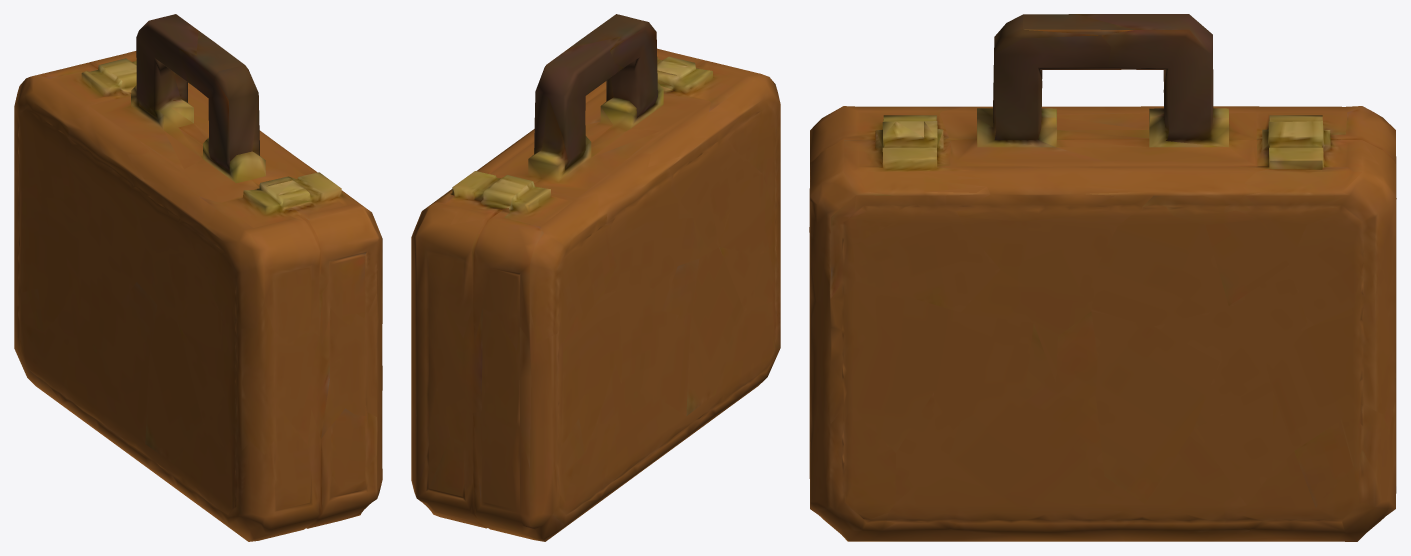
Rendered from work.glb.
The picture shows the model from 3 angles, left to right: view 1: azimuth 30°, elevation 25°; view 2: azimuth 150°, elevation 25°; view 3: azimuth 270°, elevation 25°; orthographic projection. The views are drawn at different scales.
Parts seen in each view (by area): view 1: tripo_node_12e7c16f-b682-44c6-85af-49949bc493f6; view 2: tripo_node_12e7c16f-b682-44c6-85af-49949bc493f6; view 3: tripo_node_12e7c16f-b682-44c6-85af-49949bc493f6.
Part boxes in pixels (x1,y1,x2,y2): tripo_node_12e7c16f-b682-44c6-85af-49949bc493f6: (14, 14, 382, 541); tripo_node_12e7c16f-b682-44c6-85af-49949bc493f6: (411, 14, 780, 541); tripo_node_12e7c16f-b682-44c6-85af-49949bc493f6: (809, 14, 1396, 541).
Bounding box in the file's own units: 0.6792 × 1.83 × 2.
Materials: 1 (1 with a texture image).
